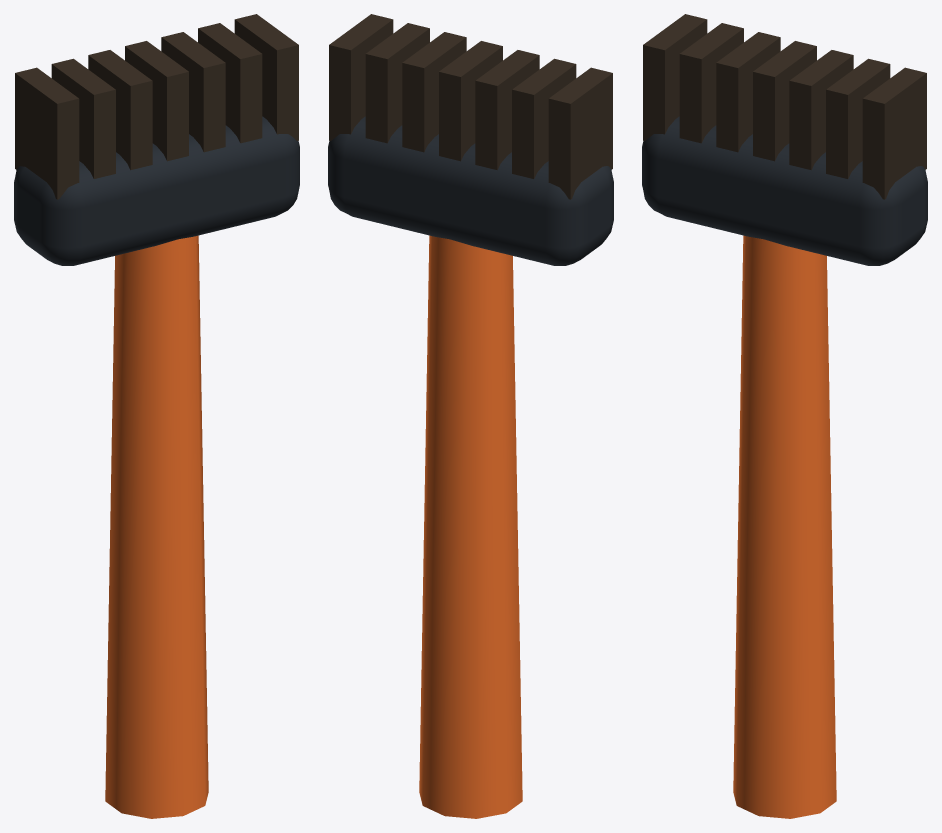
File: dust-brush.glb
3 views of the same model, side by side, from view 1: azimuth 30°, elevation 25°; view 2: azimuth 150°, elevation 25°; view 3: azimuth 330°, elevation 25° (orthographic).
Parts seen in each view (by area): view 1: dust-brush-safety-orange, bristles-bristle, dust-brush-dark-polymer; view 2: dust-brush-safety-orange, bristles-bristle, dust-brush-dark-polymer; view 3: dust-brush-safety-orange, bristles-bristle, dust-brush-dark-polymer.
Part boxes in pixels (box(x1,y1,x2,y2)): dust-brush-safety-orange: box(105, 235, 208, 818); bristles-bristle: box(15, 14, 298, 199); dust-brush-dark-polymer: box(14, 116, 299, 265); dust-brush-safety-orange: box(419, 235, 522, 818); bristles-bristle: box(329, 14, 612, 199); dust-brush-dark-polymer: box(328, 116, 613, 265); dust-brush-safety-orange: box(733, 235, 836, 818); bristles-bristle: box(643, 14, 926, 199); dust-brush-dark-polymer: box(642, 116, 927, 265).
Size of the model in its own units: 0.14 by 0.385 by 0.05.
